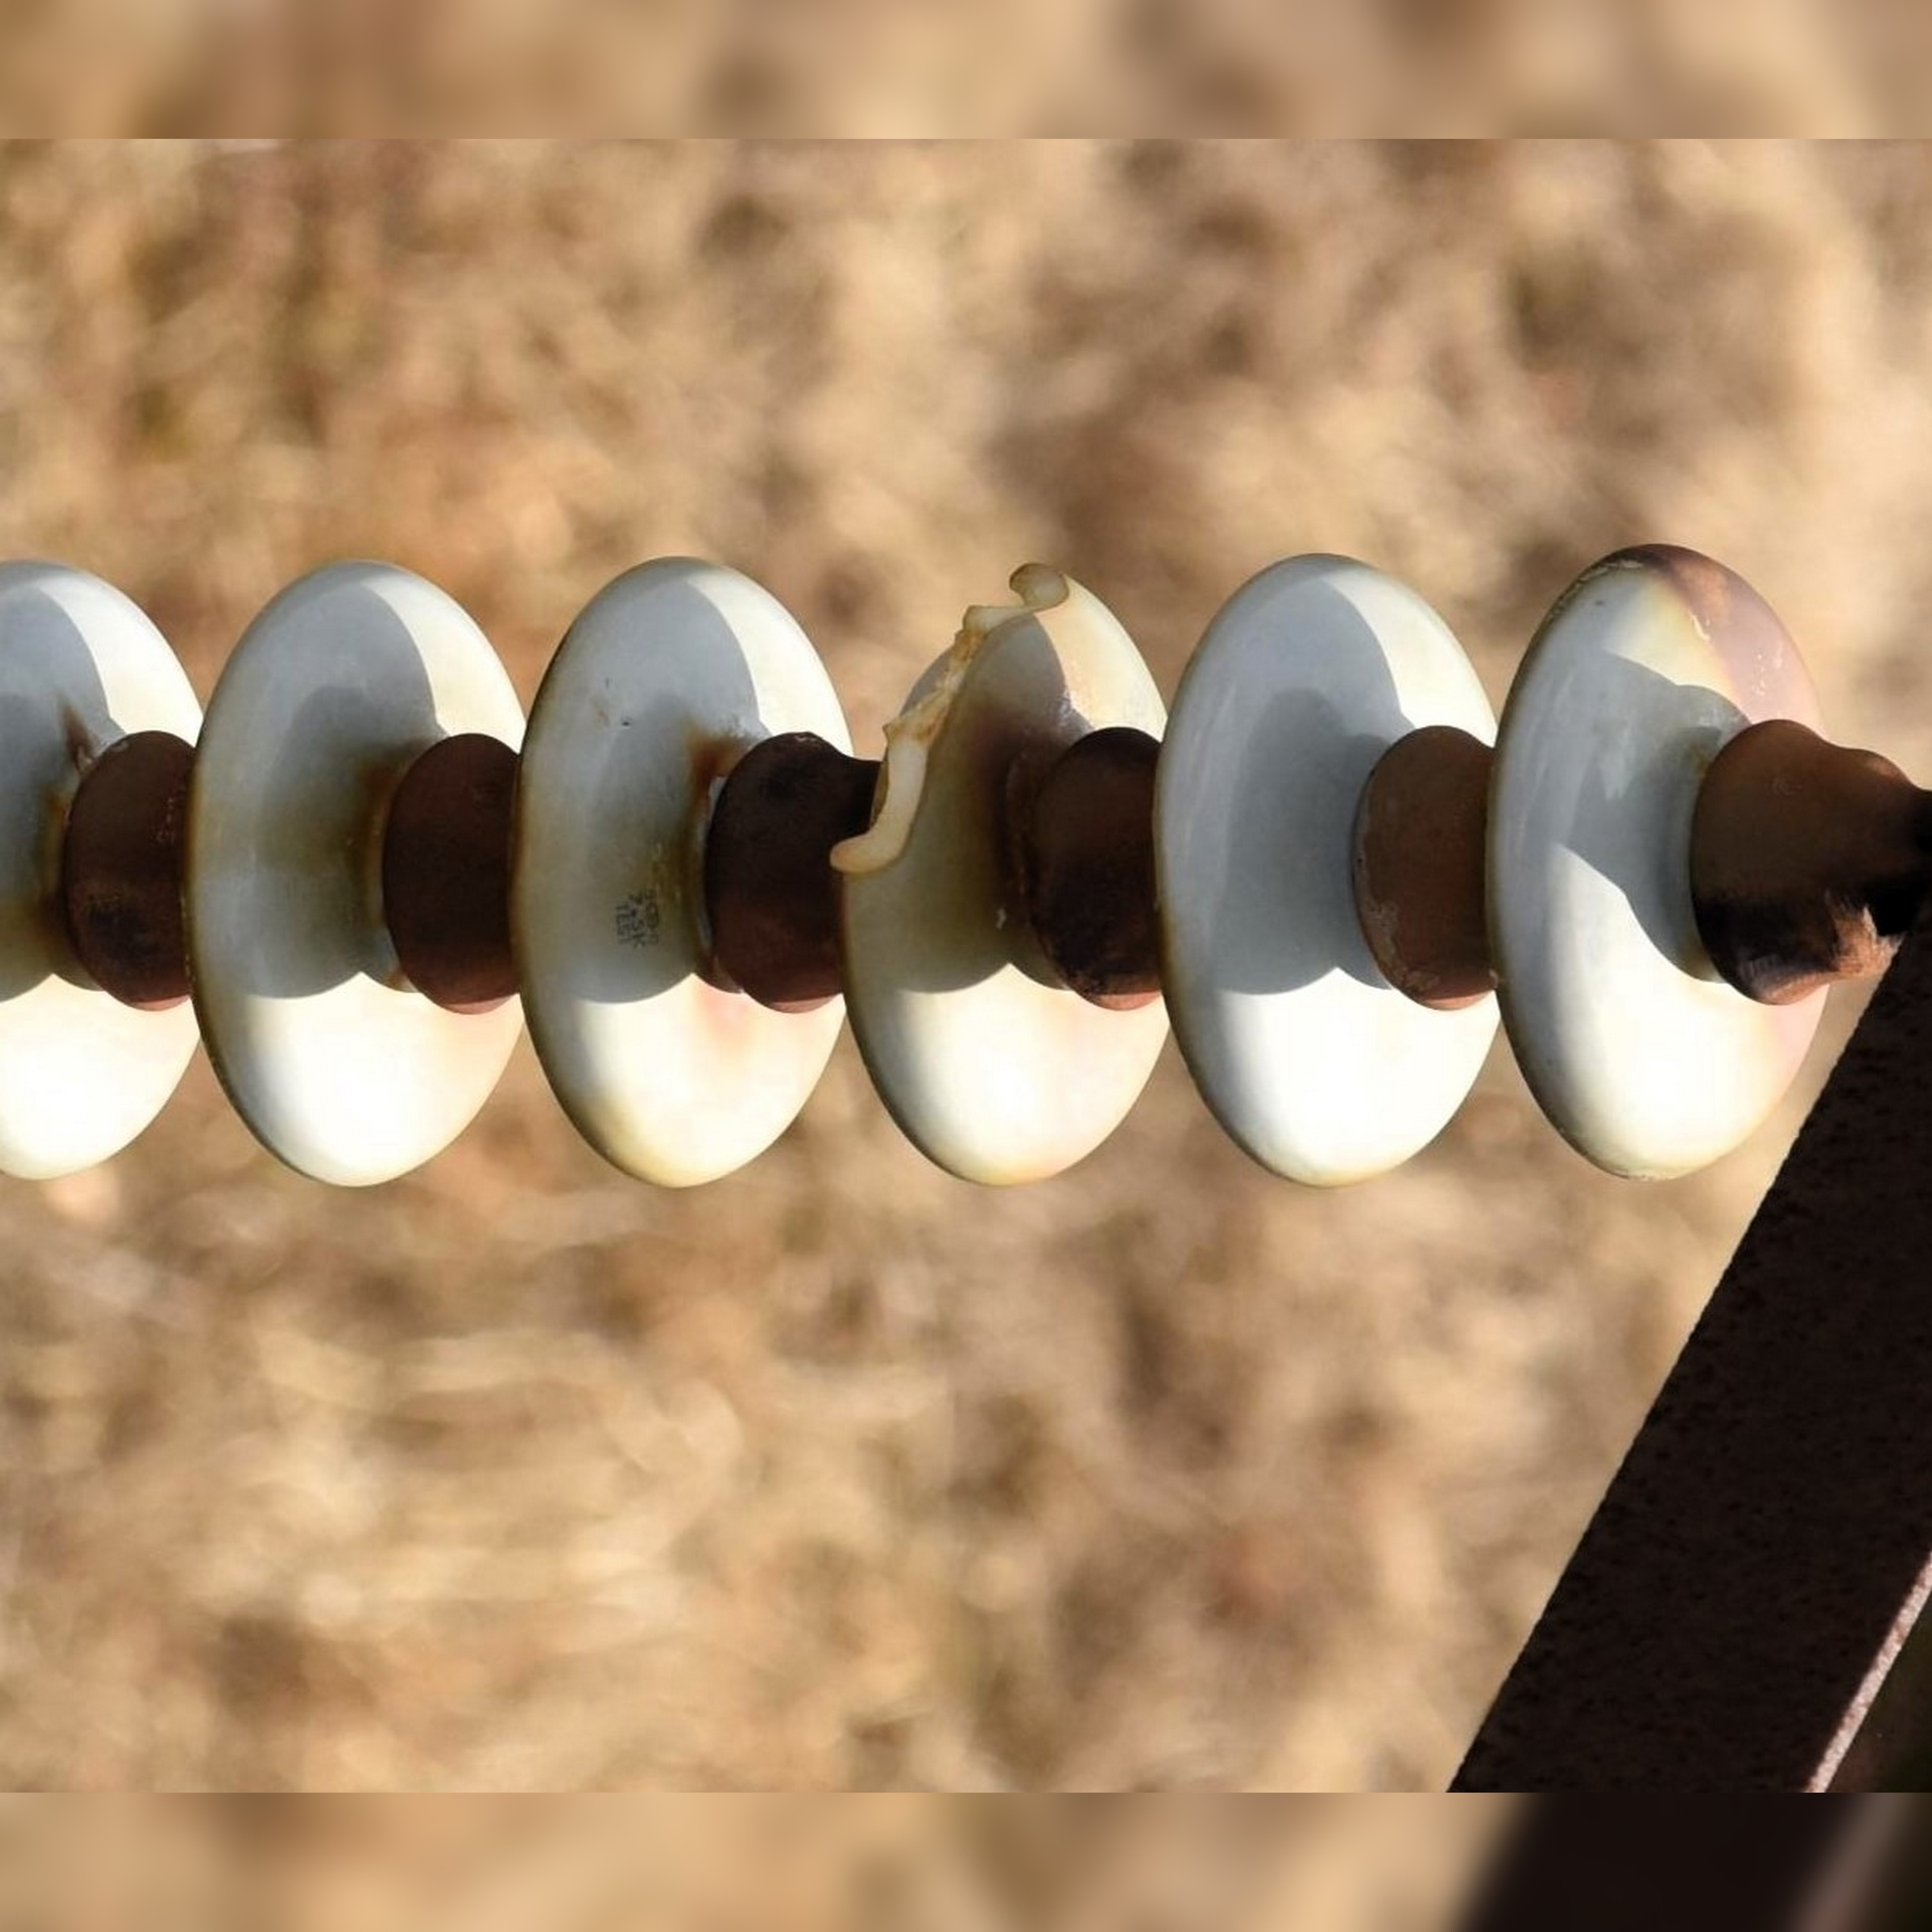insulator breakage: (824, 538, 1171, 1201)
